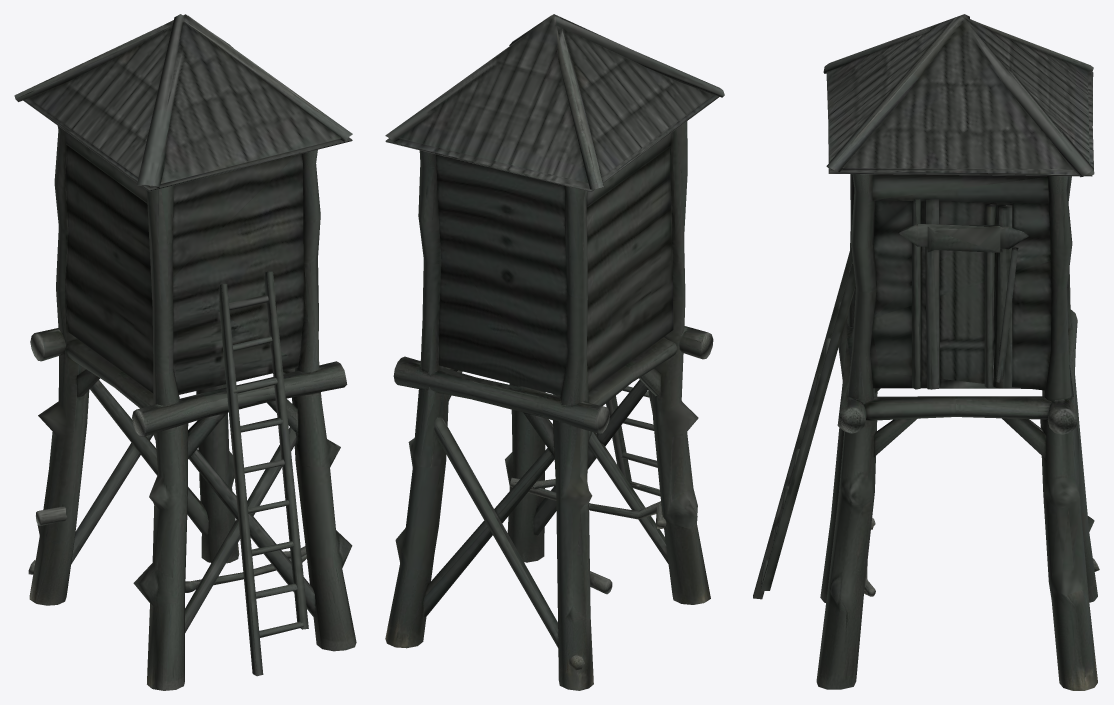
File: world-watchtower.glb
The picture shows the model from 3 angles, left to right: view 1: azimuth 30°, elevation 25°; view 2: azimuth 150°, elevation 25°; view 3: azimuth 270°, elevation 25°; orthographic projection. The views are drawn at different scales.
Bounding box in the file's own units: 2.26 × 6 × 3.03.
1 material, 1 textured.
